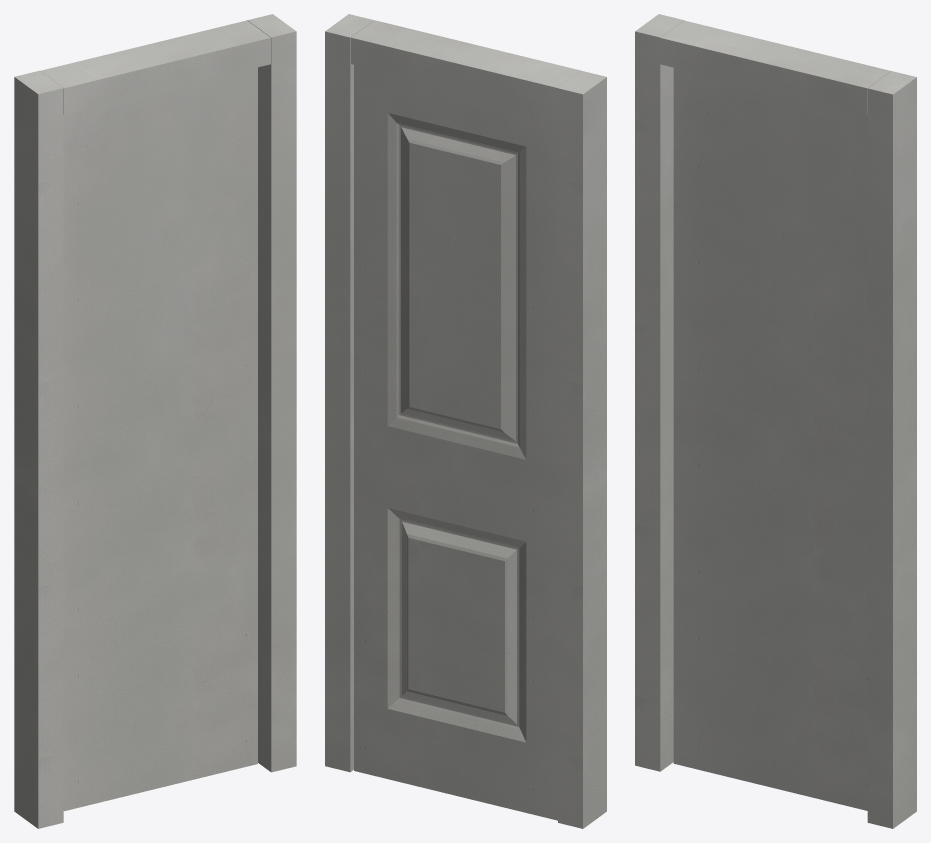
The model's file is Door1.fbx.
3 renders of one model, left to right at view 1: azimuth 30°, elevation 25°; view 2: azimuth 150°, elevation 25°; view 3: azimuth 330°, elevation 25°, orthographic.
Parts seen in each view (by area): view 1: polySurface876; view 2: polySurface876; view 3: polySurface876.
Part boxes in pixels (box(x1,y1,x2,y2)): polySurface876: box(14, 14, 296, 828); polySurface876: box(325, 14, 606, 828); polySurface876: box(635, 14, 916, 828).
Size of the model in its own units: 0.7746 by 2.11 by 0.1249.
1 material, 1 textured.
